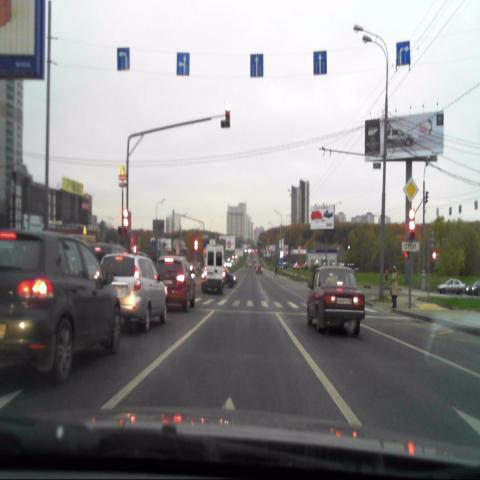2_1: (402, 176, 418, 204)
5_15_2: (249, 53, 263, 78), (396, 40, 410, 64), (116, 47, 130, 70), (314, 51, 326, 74), (176, 53, 189, 74)
